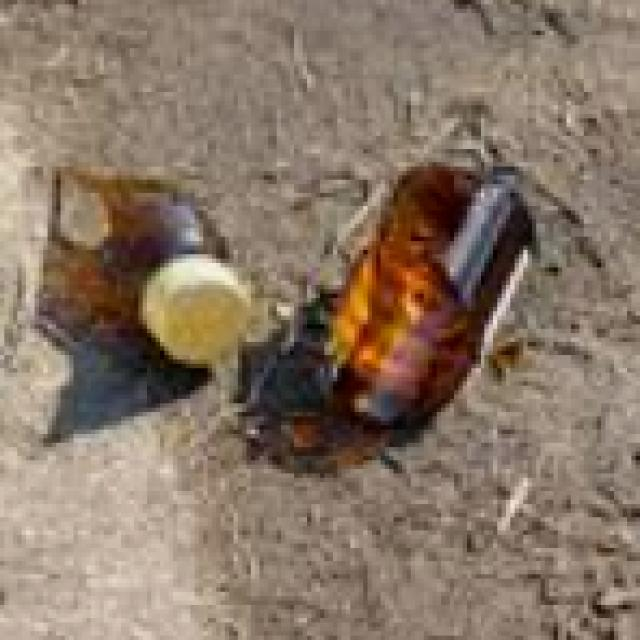PecahanKaca: (238, 154, 536, 474), (26, 158, 255, 403)
